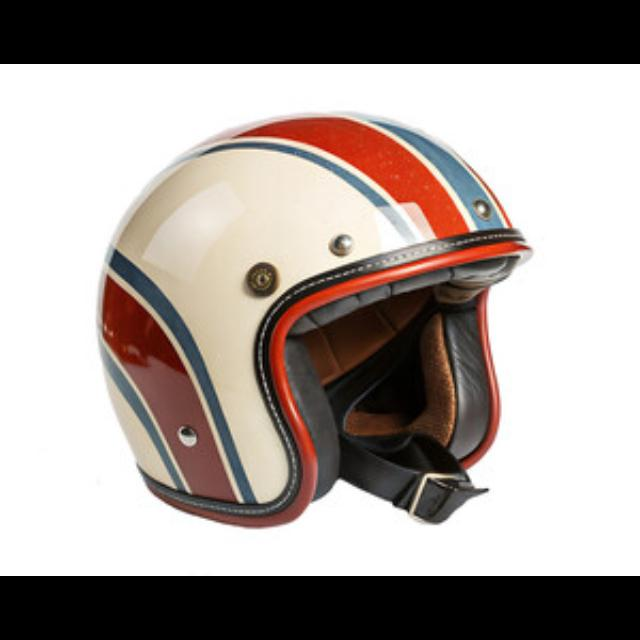motorcycle-helmets: (88, 101, 528, 536)
